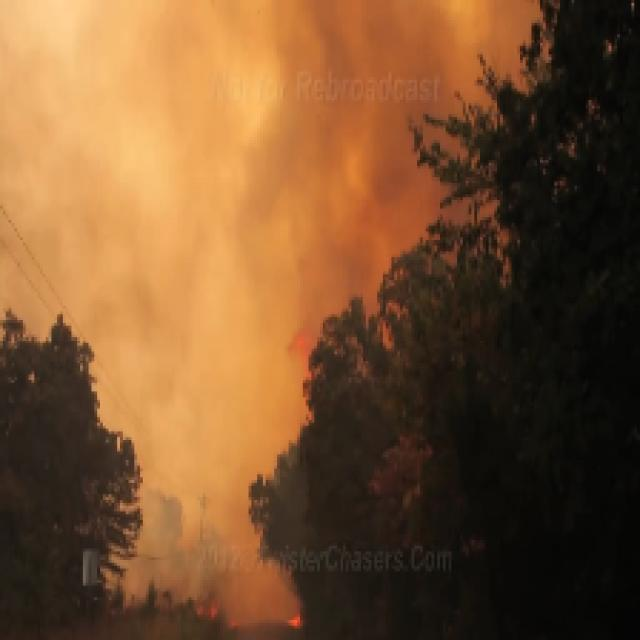Smoke: (6, 3, 520, 640)
